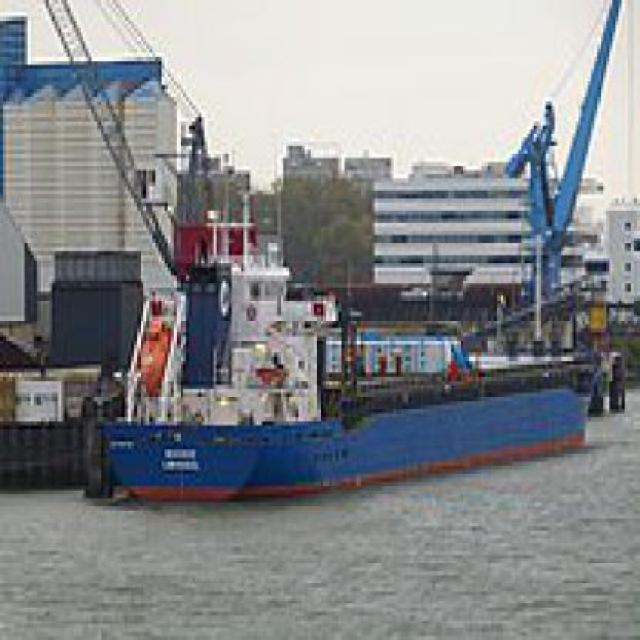container: (96, 224, 599, 520)
